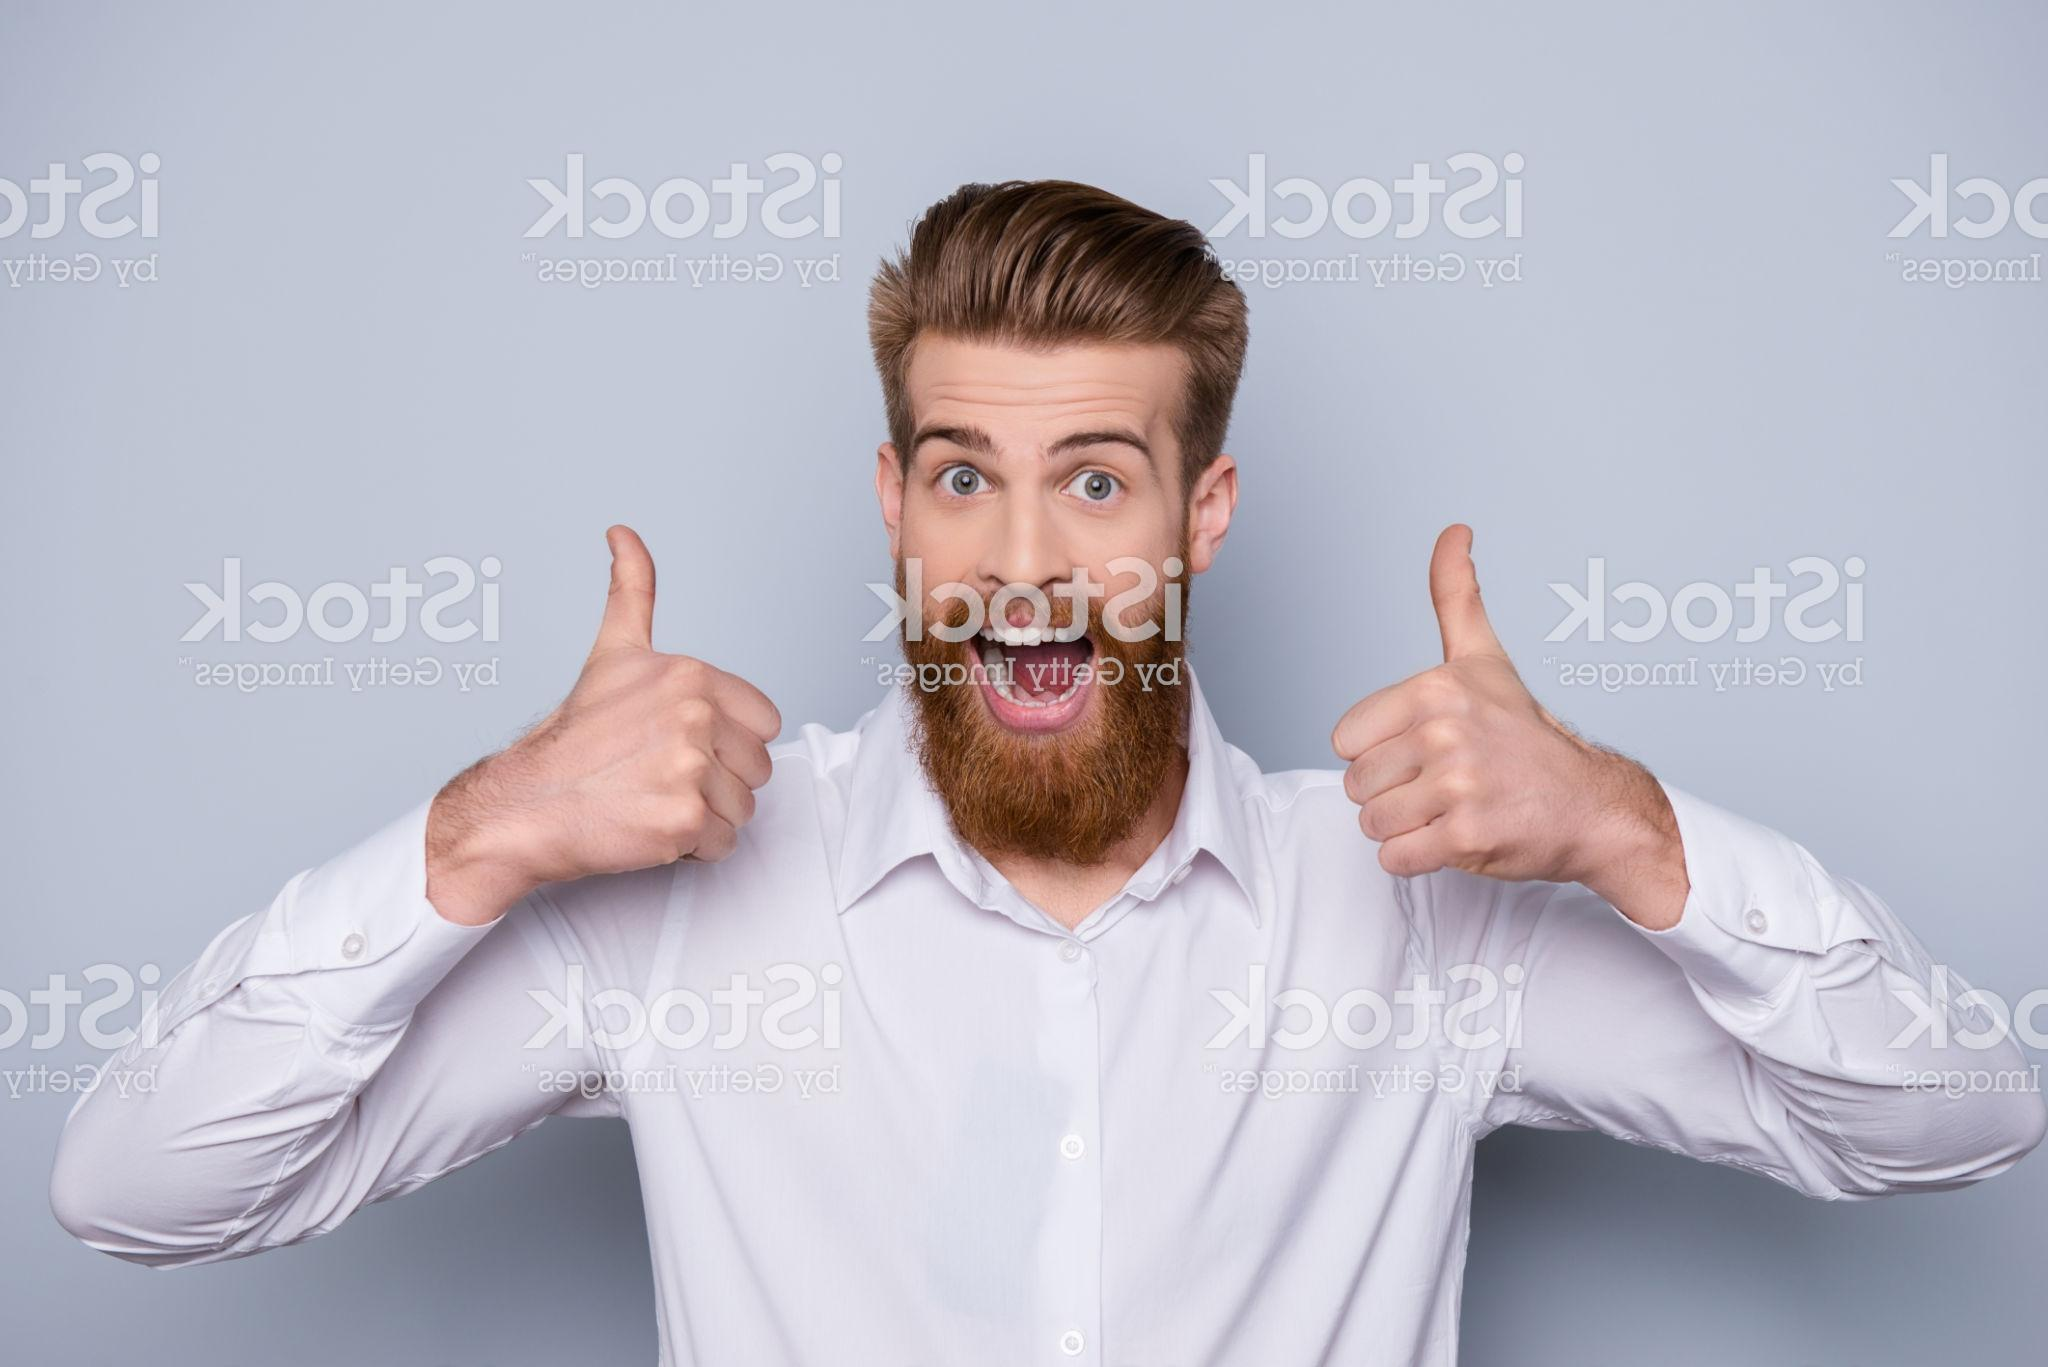thumbsup: (1327, 520, 1575, 886), (567, 520, 785, 883)
